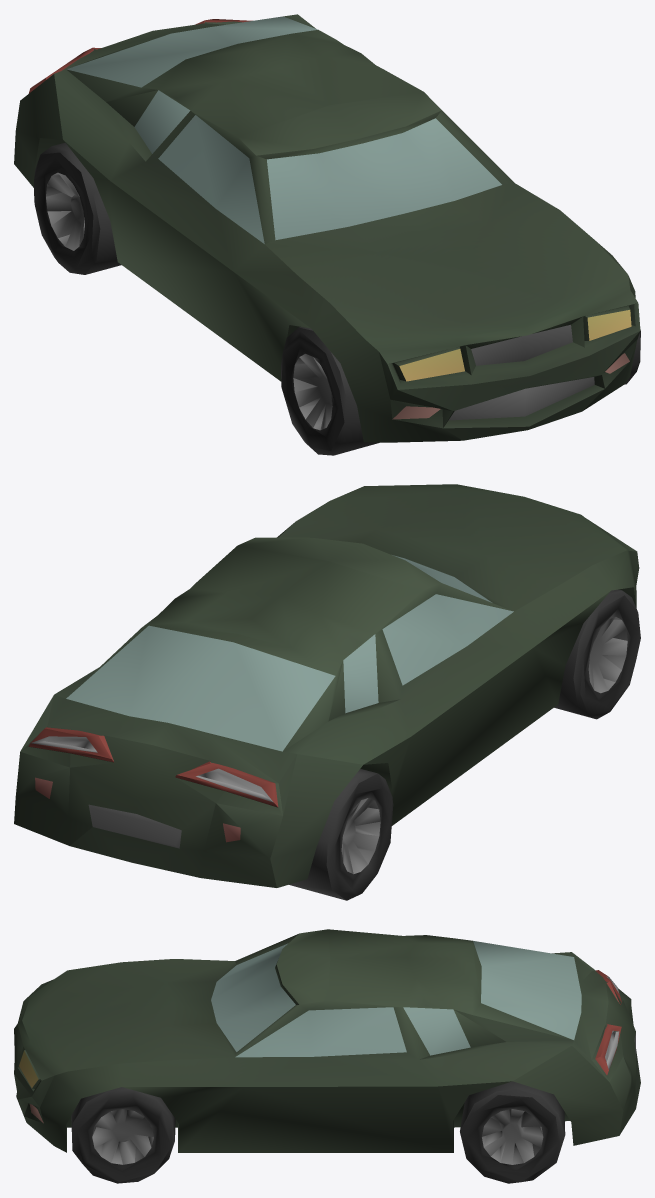
The model's file is Car4.fbx.
The picture shows the model from 3 angles, top to bottom: view 1: azimuth 30°, elevation 25°; view 2: azimuth 150°, elevation 25°; view 3: azimuth 270°, elevation 25°; orthographic projection. The views are drawn at different scales.
Parts seen in each view (by area): view 1: Car 4; view 2: Car 4; view 3: Car 4.
Boxes of the visible parts, bbox=[...] form: Car 4: bbox=[14, 14, 640, 455]; Car 4: bbox=[14, 484, 640, 900]; Car 4: bbox=[14, 929, 640, 1183].
Size of the model in its own units: 5.92 by 13.52 by 4.06.
